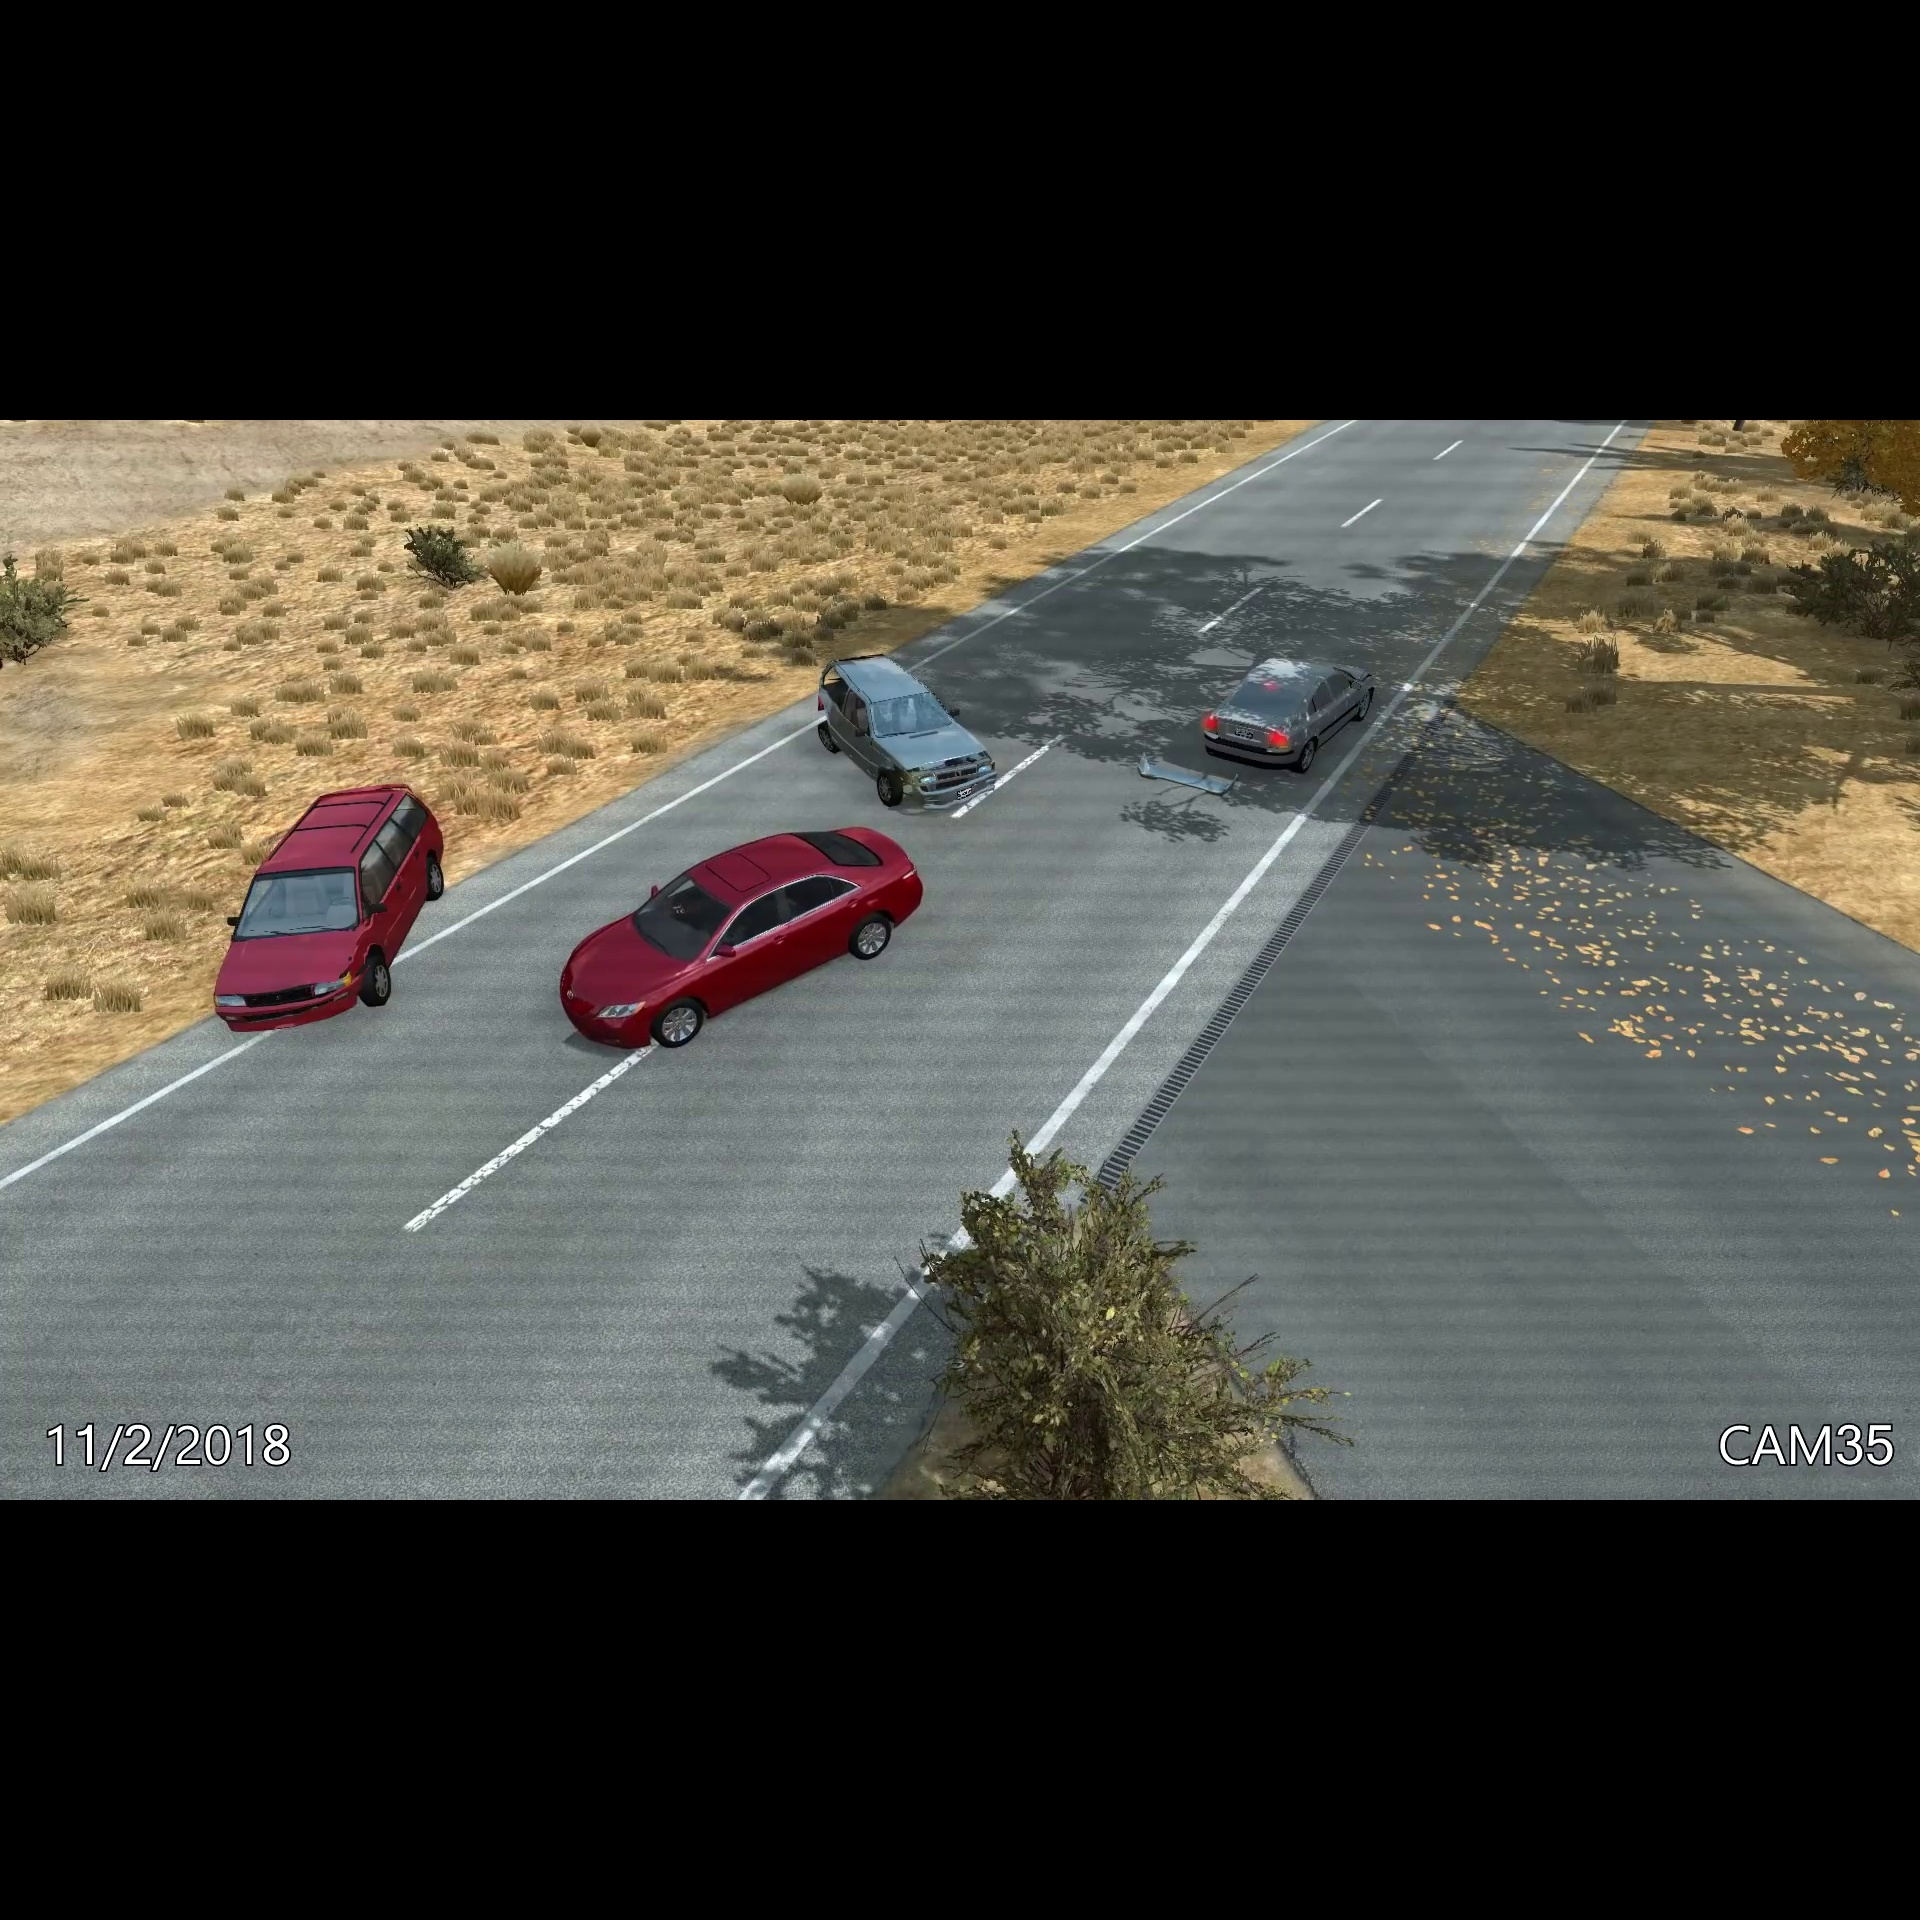vehicle: (550, 819, 932, 1060), (204, 774, 452, 1046), (807, 647, 1004, 819), (1204, 647, 1382, 782)
